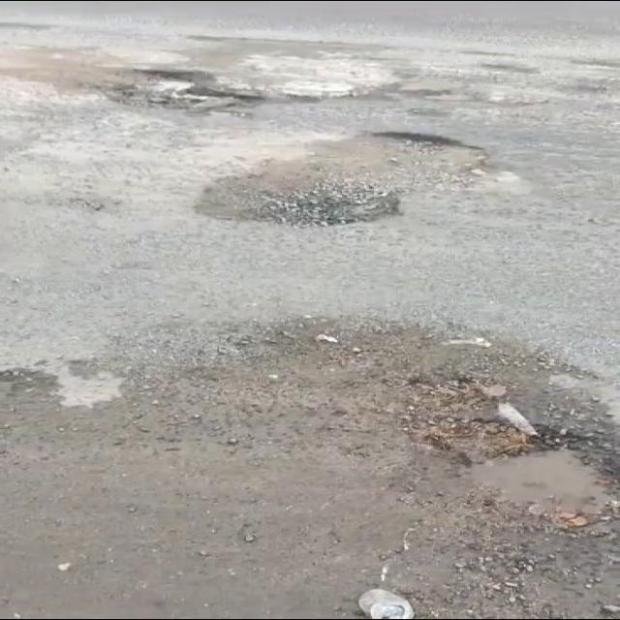lubang: (401, 378, 619, 528), (195, 133, 518, 226), (22, 50, 287, 110)
